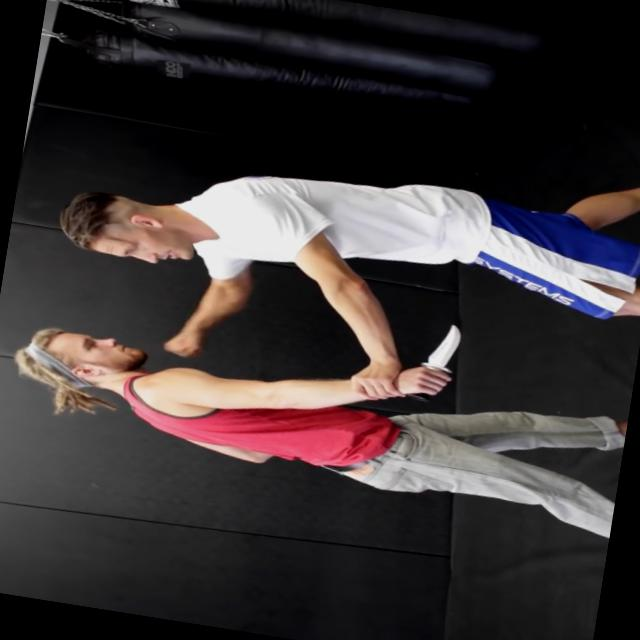knife: (401, 314, 474, 410)
